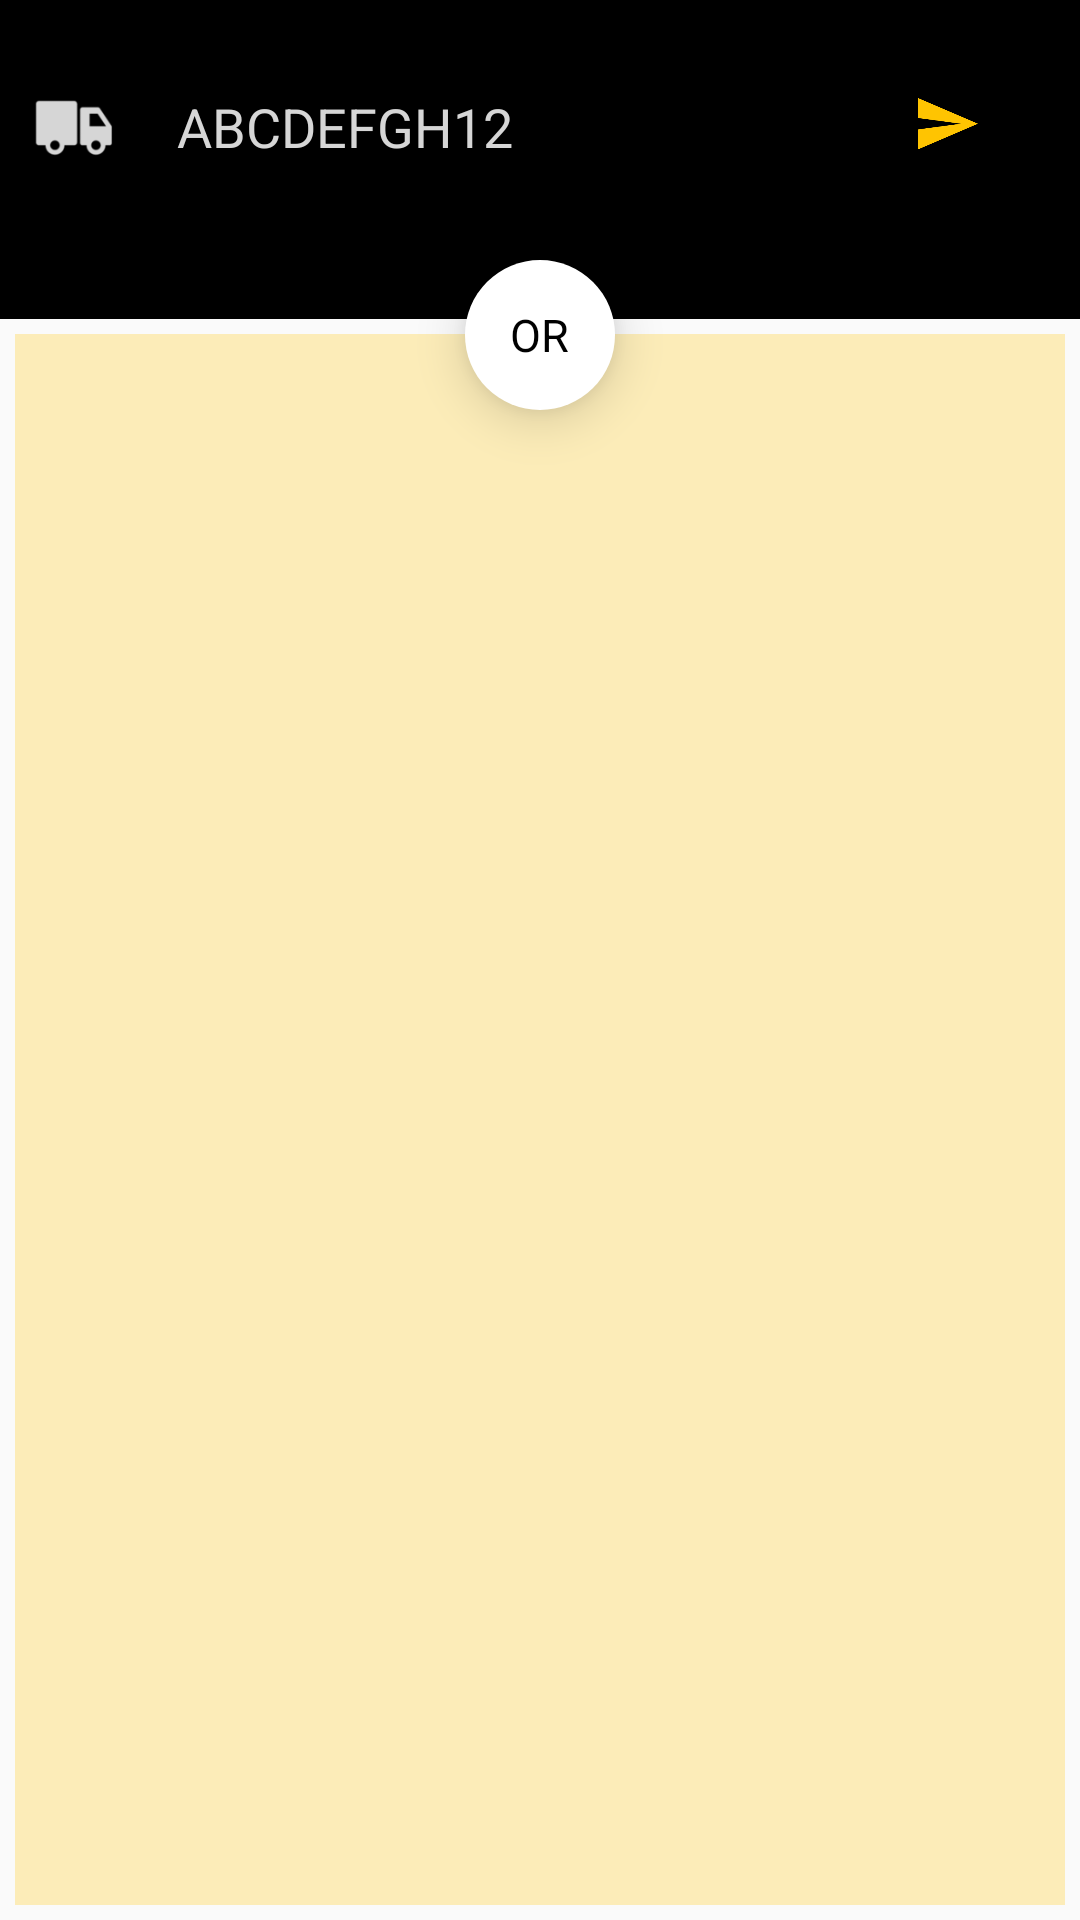

Locate icon controls on the screen. Image size 1080×1920, boxes as [x1, y1, x2, y2].
forward: [918, 98, 978, 149]
truck edit: [35, 100, 112, 155]
